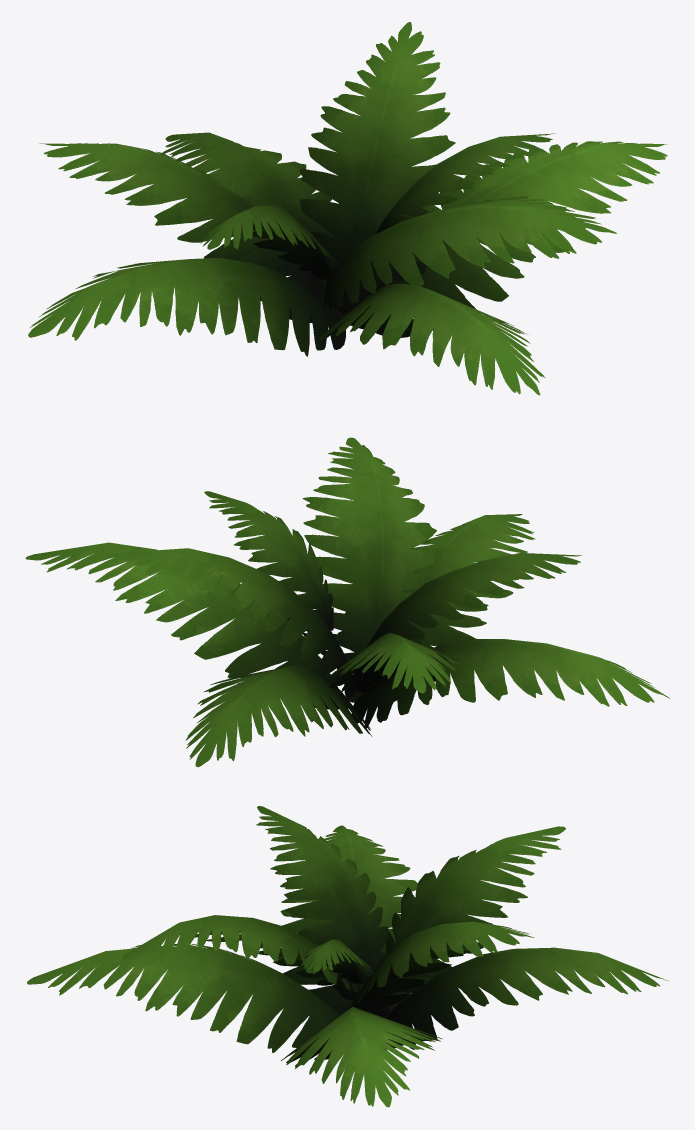
The model's file is Fern_1.glb.
The picture shows the model from 3 angles, top to bottom: view 1: azimuth 30°, elevation 25°; view 2: azimuth 150°, elevation 25°; view 3: azimuth 270°, elevation 25°; orthographic projection. The views are drawn at different scales.
Parts seen in each view (by area): view 1: Fern_1; view 2: Fern_1; view 3: Fern_1.
Part boxes in pixels (left/top/right/bottom): Fern_1: left=28, top=22, right=667, bottom=395; Fern_1: left=25, top=437, right=669, bottom=767; Fern_1: left=27, top=806, right=668, bottom=1107.
Bounding box in the file's own units: 2.83 × 0.8402 × 2.65.
Materials: 1 (1 with a texture image).
